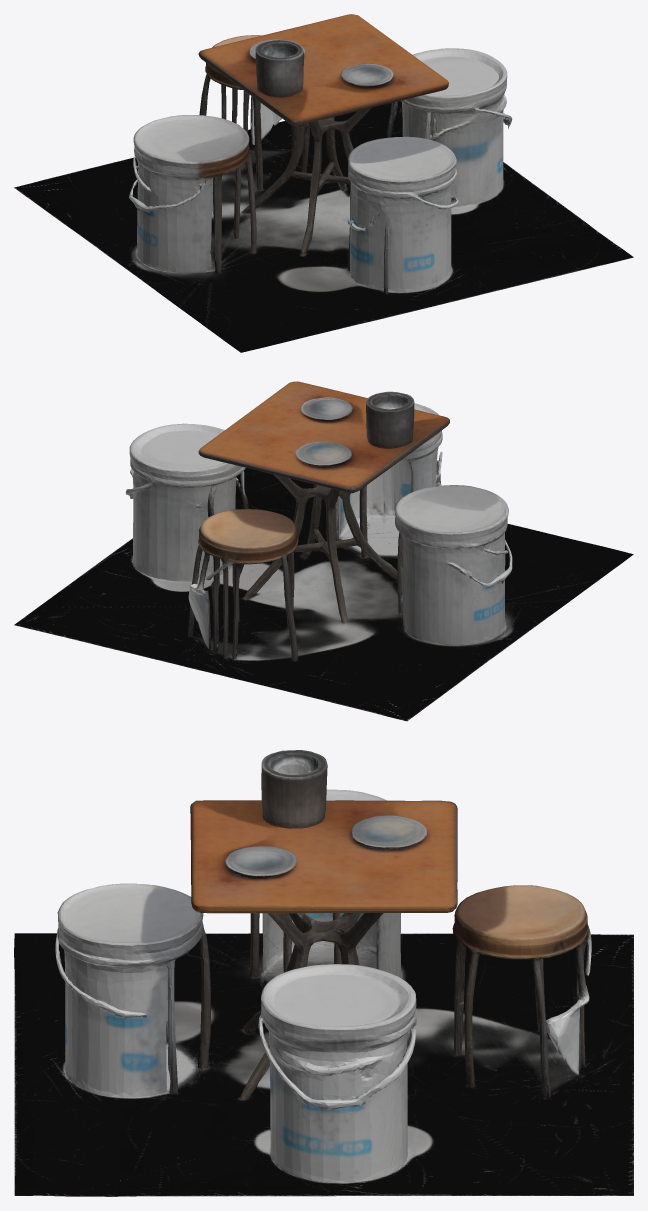
3 views of the same model, one above another, from view 1: azimuth 30°, elevation 25°; view 2: azimuth 150°, elevation 25°; view 3: azimuth 270°, elevation 25° (orthographic). The views are drawn at different scales.
Visible parts, largest first — view 1: world.003; view 2: world.003; view 3: world.003.
Part boxes in pixels (x1=…): world.003: x1=14, y1=14, x2=633, y2=352; world.003: x1=14, y1=381, x2=633, y2=721; world.003: x1=14, y1=750, x2=633, y2=1196.
Bounding box in the file's own units: 100 × 48.05 × 100.
1 material, 1 textured.
